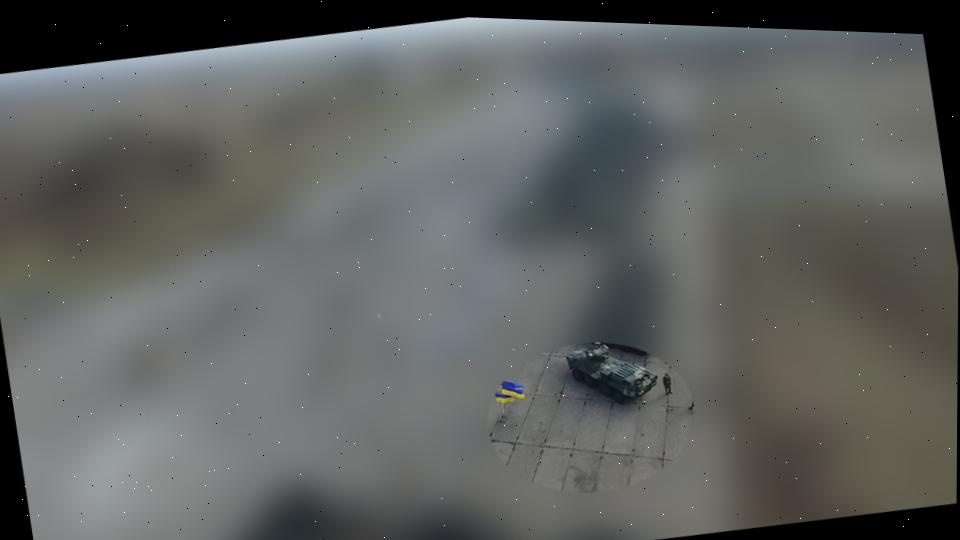armored_car: (554, 328, 666, 414)
